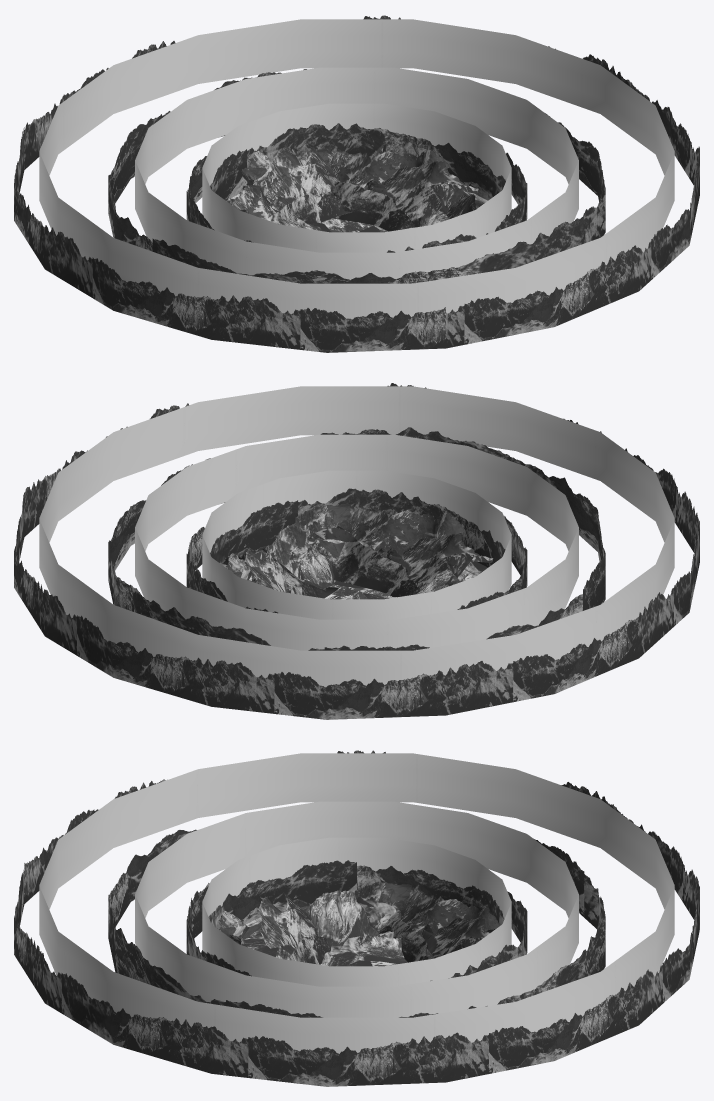
File: Mountain.fbx
The picture shows the model from 3 angles, top to bottom: view 1: azimuth 30°, elevation 25°; view 2: azimuth 150°, elevation 25°; view 3: azimuth 270°, elevation 25°; orthographic projection.
Visible parts, largest first — view 1: m9000B1A18; view 2: m9000B1A18; view 3: m9000B1A18.
Boxes of the visible parts, x1,y1,x2,y2 form: m9000B1A18: (14,15,699,352); m9000B1A18: (14,383,699,719); m9000B1A18: (14,750,699,1086).
Size of the model in its own units: 3143 by 523 by 3143.
